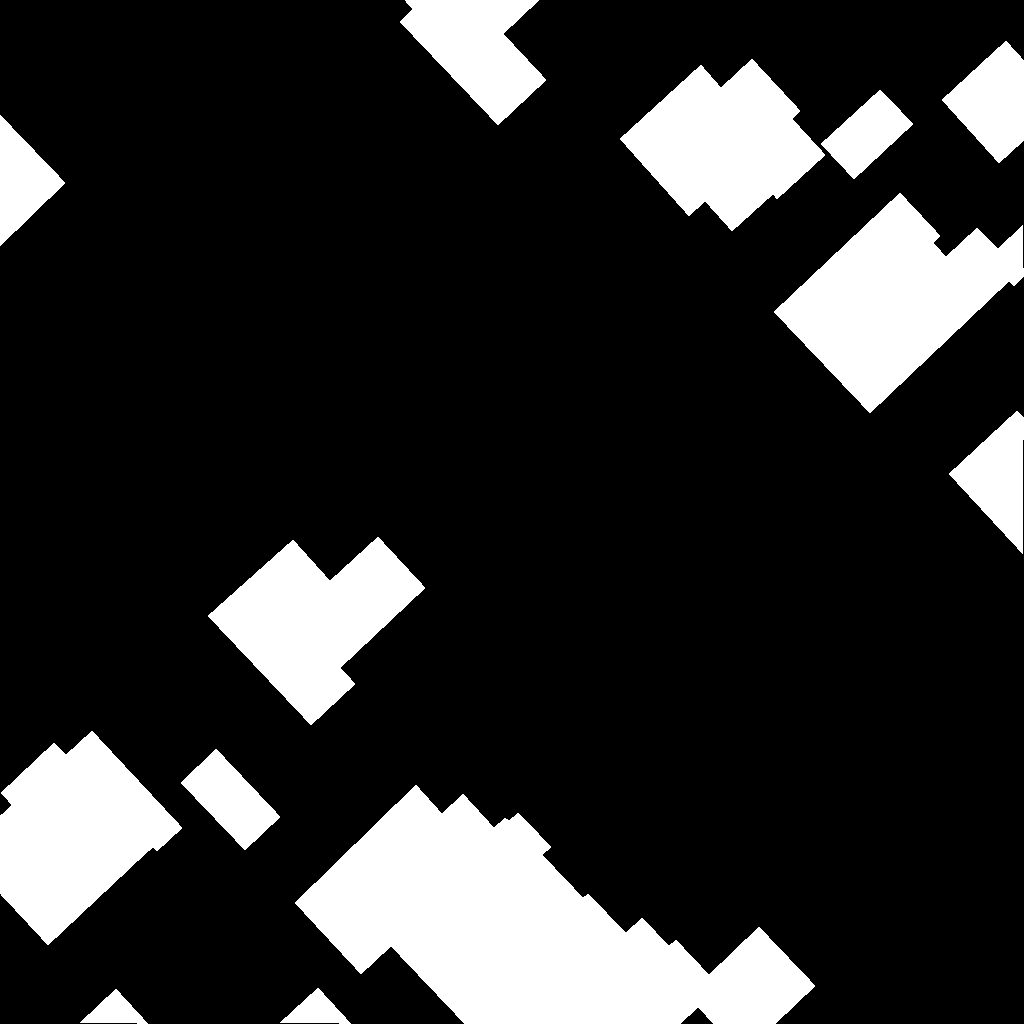building: (295, 785, 816, 1024), (774, 193, 1024, 414), (208, 537, 426, 726), (0, 731, 183, 946), (620, 59, 826, 232), (400, 0, 547, 126), (949, 411, 1024, 555), (181, 749, 281, 851), (942, 41, 1024, 164), (0, 115, 66, 247), (821, 90, 914, 180), (280, 988, 352, 1024), (80, 989, 149, 1024)
